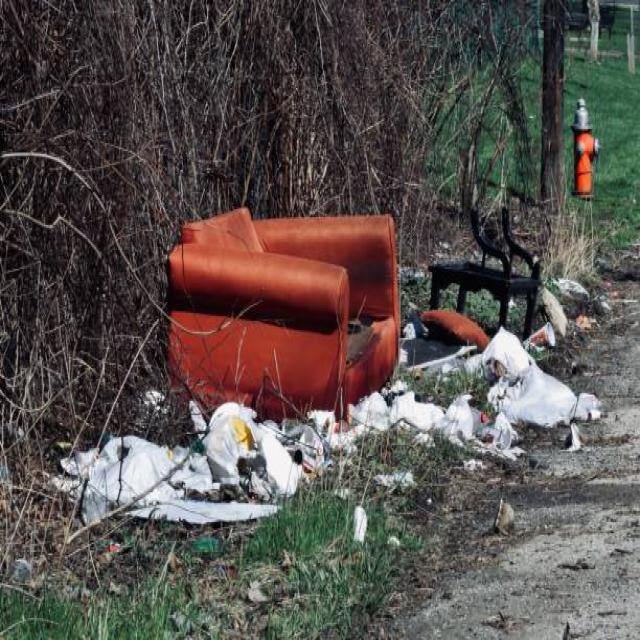metal: (516, 327, 564, 355)
plastic: (442, 400, 516, 458), (350, 506, 376, 554)
trash: (74, 406, 414, 497), (491, 348, 575, 430)
